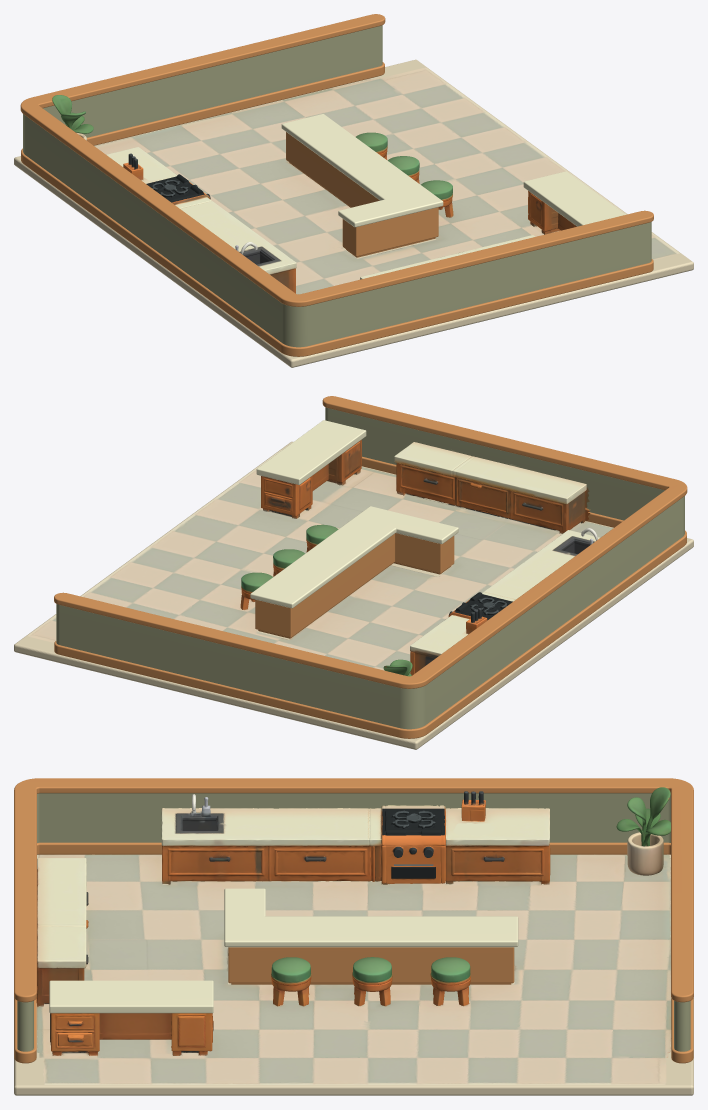
File: sushi-room-v12-clean.glb
3 renders of one model, top to bottom at view 1: azimuth 30°, elevation 25°; view 2: azimuth 150°, elevation 25°; view 3: azimuth 270°, elevation 25°, orthographic. The views are drawn at different scales.
Visible parts, largest first — view 1: Kitchen • clean tiled floor, Kitchen • continuous rounded wall panels, Kitchen • continuous oak top rail, Kitchen • preserved Tripo furnishings, Kitchen • continuous oak base rail, Front Island • continuous L worktop, Front Island • clean wood body, Cashier Desk • replacement ivory worktop; view 2: Kitchen • clean tiled floor, Kitchen • continuous rounded wall panels, Kitchen • preserved Tripo furnishings, Kitchen • continuous oak top rail, Kitchen • continuous oak base rail, Front Island • continuous L worktop, Front Island • clean wood body, Cashier Desk • replacement ivory worktop; view 3: Kitchen • clean tiled floor, Kitchen • preserved Tripo furnishings, Kitchen • continuous oak top rail, Kitchen • continuous rounded wall panels, Front Island • continuous L worktop, Front Island • clean wood body, Cashier Desk • replacement ivory worktop, Kitchen • continuous oak base rail.
Part boxes in pixels (<box>): Kitchen • clean tiled floor: <box>14,59,693,367</box>; Kitchen • continuous rounded wall panels: <box>23,25,651,347</box>; Kitchen • continuous oak top rail: <box>20,14,653,306</box>; Kitchen • preserved Tripo furnishings: <box>52,95,576,293</box>; Kitchen • continuous oak base rail: <box>21,62,653,356</box>; Front Island • continuous L worktop: <box>281,114,443,227</box>; Front Island • clean wood body: <box>286,132,438,256</box>; Cashier Desk • replacement ivory worktop: <box>523,171,625,226</box>; Kitchen • clean tiled floor: <box>14,441,693,749</box>; Kitchen • continuous rounded wall panels: <box>56,407,684,729</box>; Kitchen • preserved Tripo furnishings: <box>240,440,599,676</box>; Kitchen • continuous oak top rail: <box>54,396,687,688</box>; Kitchen • continuous oak base rail: <box>54,456,686,738</box>; Front Island • continuous L worktop: <box>250,506,458,608</box>; Front Island • clean wood body: <box>255,533,454,637</box>; Cashier Desk • replacement ivory worktop: <box>256,420,366,484</box>; Kitchen • clean tiled floor: <box>14,854,693,1095</box>; Kitchen • preserved Tripo furnishings: <box>36,787,670,1055</box>; Kitchen • continuous oak top rail: <box>14,778,693,1002</box>; Kitchen • continuous rounded wall panels: <box>17,793,690,1051</box>; Front Island • continuous L worktop: <box>224,888,518,947</box>; Front Island • clean wood body: <box>228,947,514,983</box>; Cashier Desk • replacement ivory worktop: <box>49,980,213,1013</box>; Kitchen • continuous oak base rail: <box>14,842,693,1063</box>.
Size of the model in its own units: 5.98 by 0.9861 by 7.13.
Materials: 13 (3 with a texture image).
